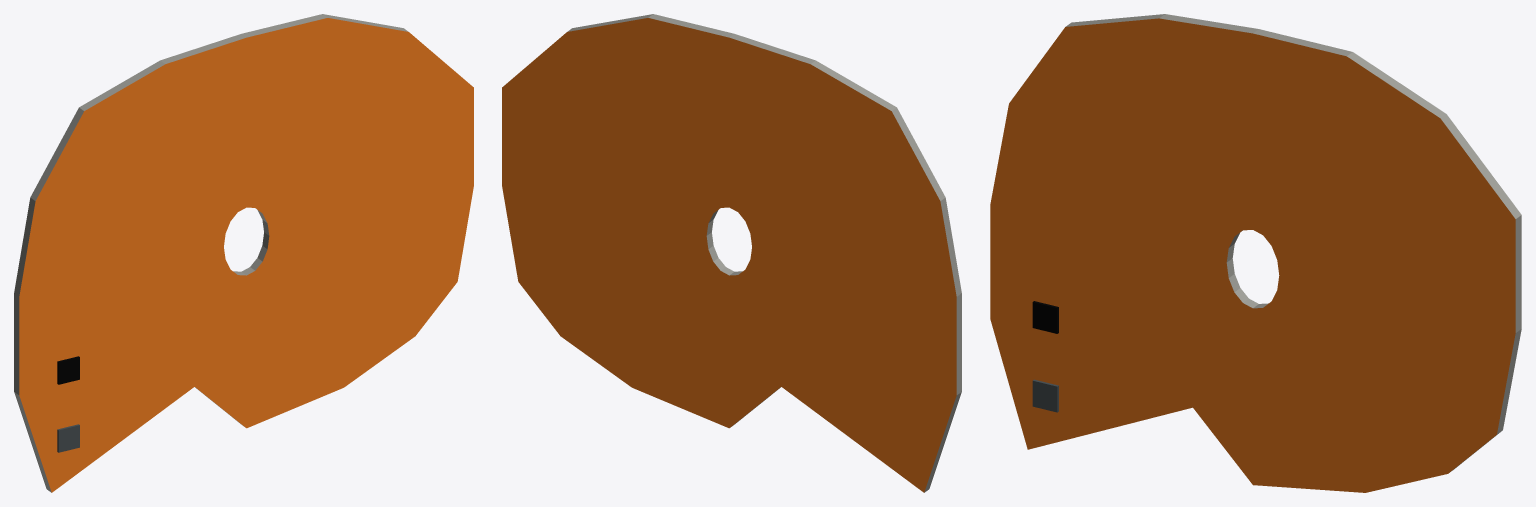
The model's file is item_palette2.obj.
3 renders of one model, left to right at view 1: azimuth 30°, elevation 25°; view 2: azimuth 150°, elevation 25°; view 3: azimuth 330°, elevation 25°, orthographic. The views are drawn at different scales.
Visible parts, largest first — view 1: wooden_palette_with_open_thumb_hole_and_grip_notch, native_cumulative_paint_state; view 2: wooden_palette_with_open_thumb_hole_and_grip_notch; view 3: wooden_palette_with_open_thumb_hole_and_grip_notch, native_cumulative_paint_state.
Boxes of the visible parts, x1,y1,x2,y2 form: wooden_palette_with_open_thumb_hole_and_grip_notch: (14, 14, 473, 492); native_cumulative_paint_state: (57, 356, 79, 452); wooden_palette_with_open_thumb_hole_and_grip_notch: (502, 14, 961, 492); wooden_palette_with_open_thumb_hole_and_grip_notch: (990, 14, 1521, 492); native_cumulative_paint_state: (1032, 301, 1058, 412).
Bounding box in the file's own units: 0.875 × 0.75 × 0.0219.
